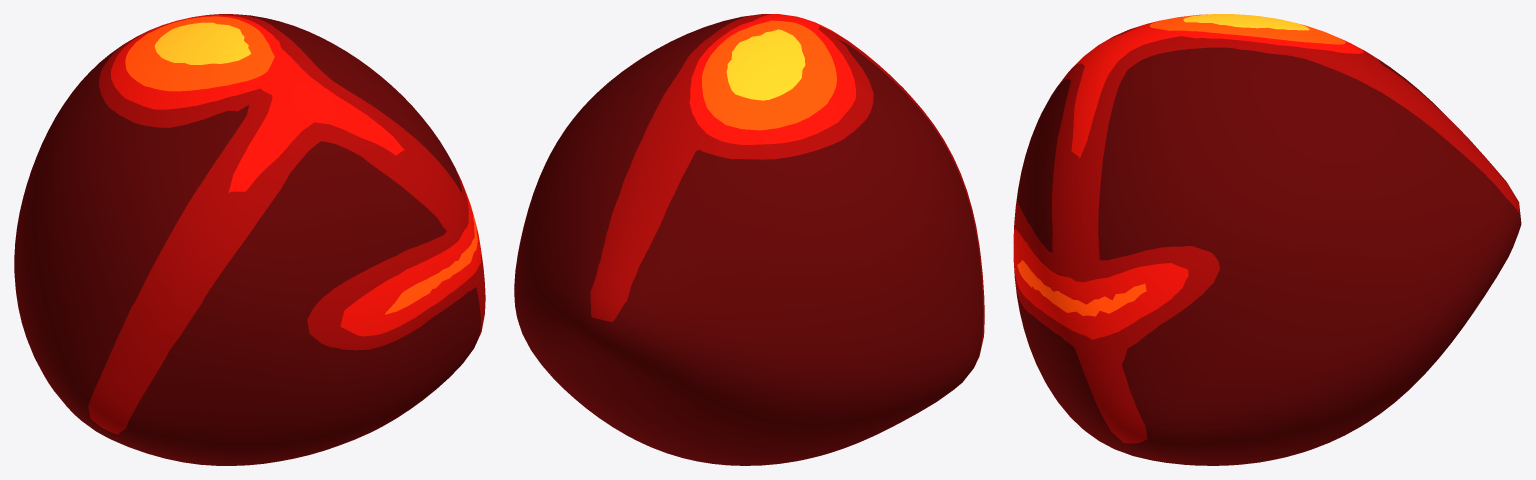
File: molten_crystal_83.glb
3 views of the same model, side by side, from view 1: azimuth 30°, elevation 25°; view 2: azimuth 150°, elevation 25°; view 3: azimuth 270°, elevation 25° (orthographic). The views are drawn at different scales.
Parts seen in each view (by area): view 1: molten_crystal_83; view 2: molten_crystal_83; view 3: molten_crystal_83.
Boxes of the visible parts, <box> form: molten_crystal_83: <box>14,14,485,465</box>; molten_crystal_83: <box>514,14,984,465</box>; molten_crystal_83: <box>1013,14,1521,465</box>.
Bounding box in the file's own units: 19.87 × 18.97 × 21.22.
